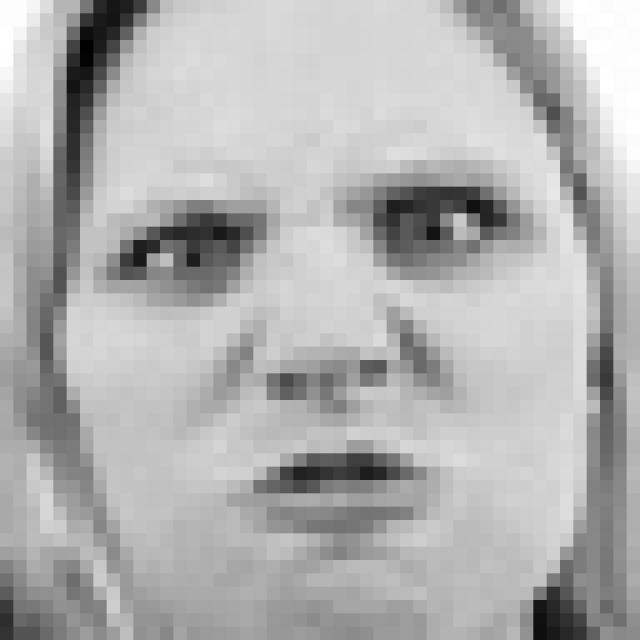angry: (96, 140, 552, 586)
